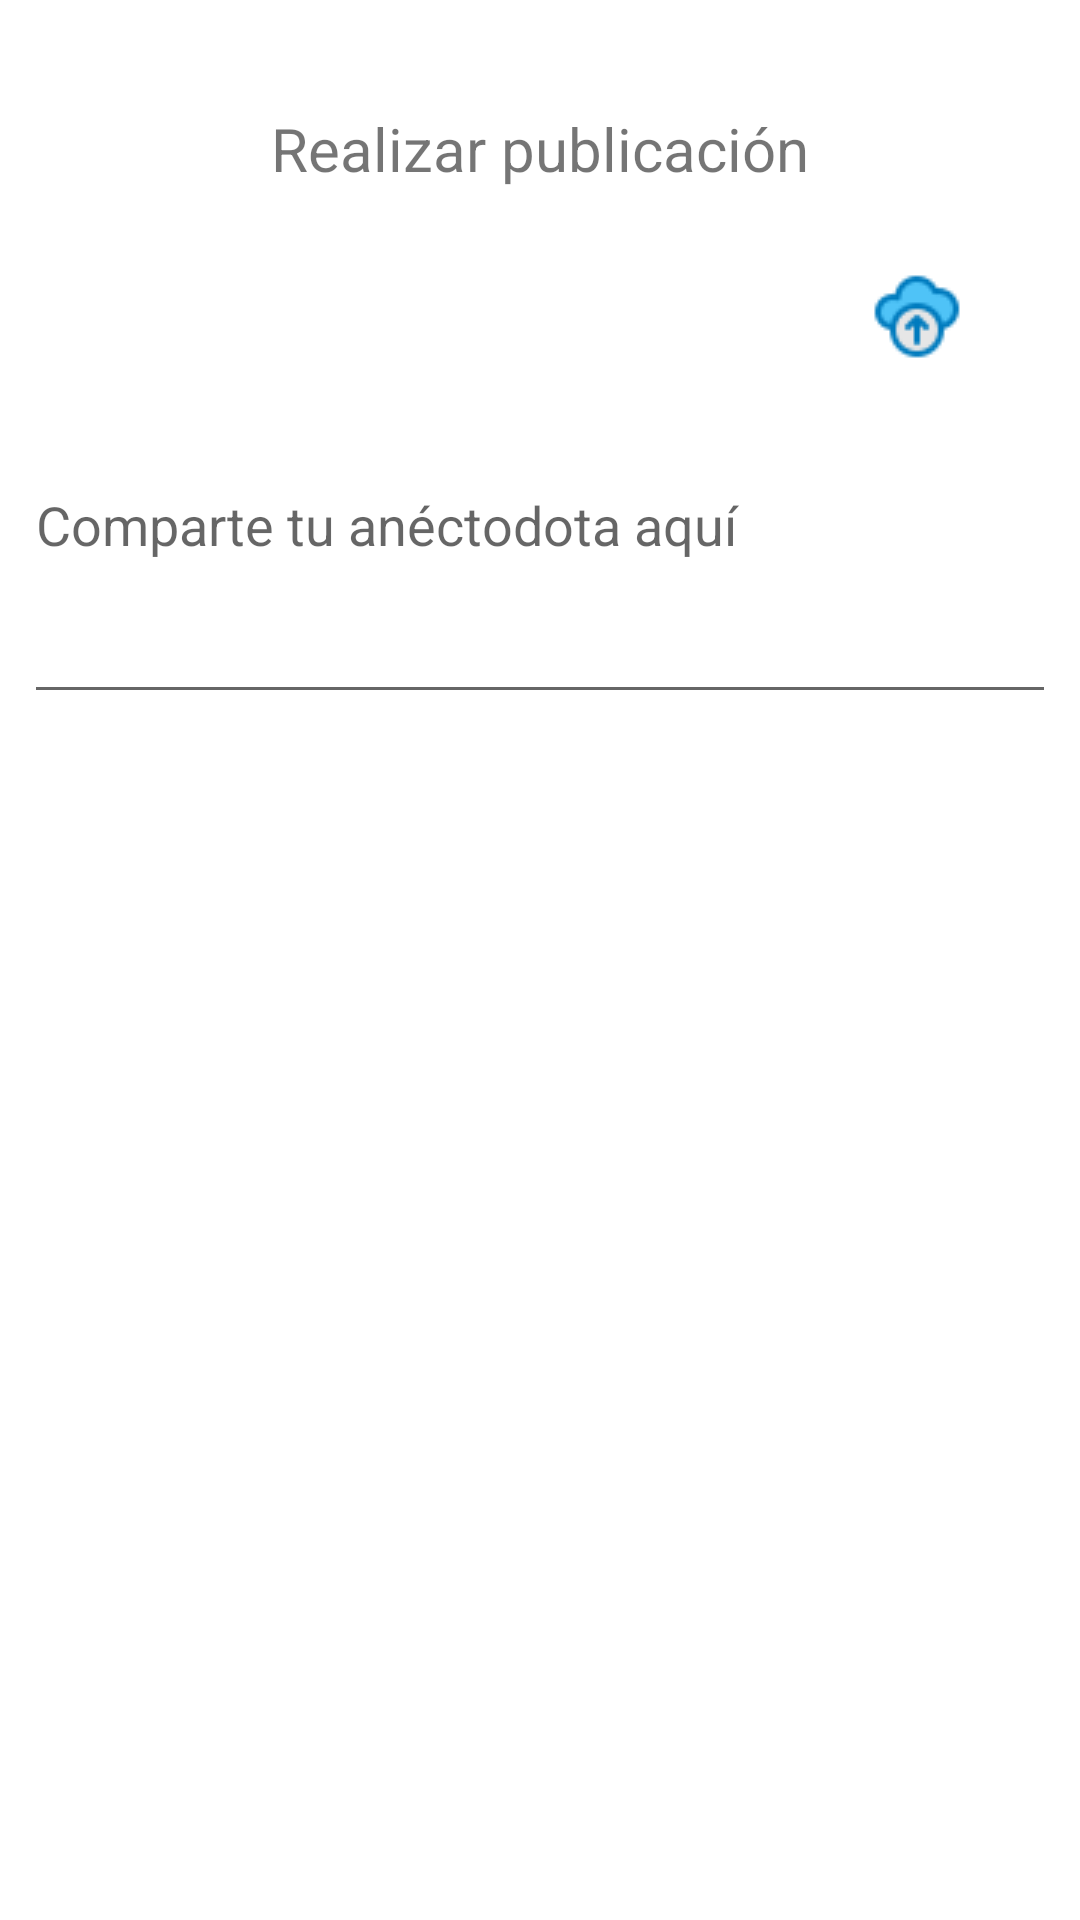

Named icons in this screenshot (1080*1920) and their bounding boxes, detection(x1, y1, x2, y2):
send: detection(874, 275, 960, 358)
